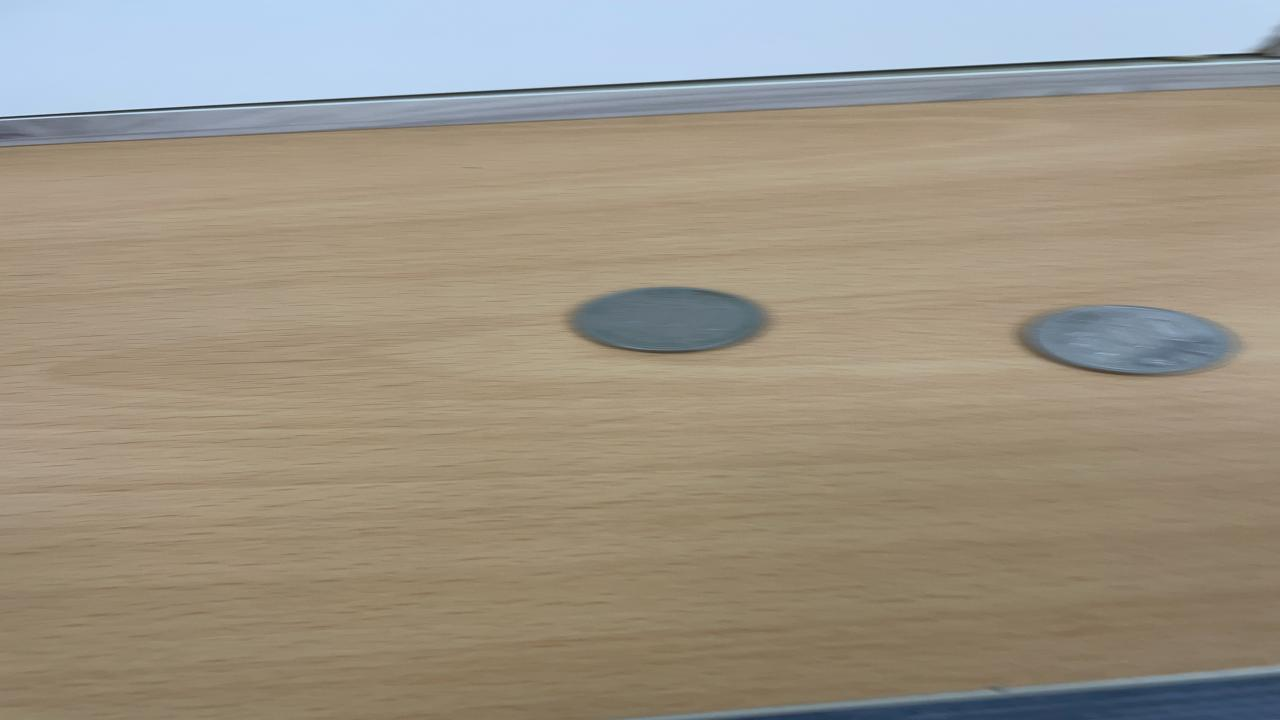coin: (1012, 300, 1248, 378), (564, 282, 773, 356)
